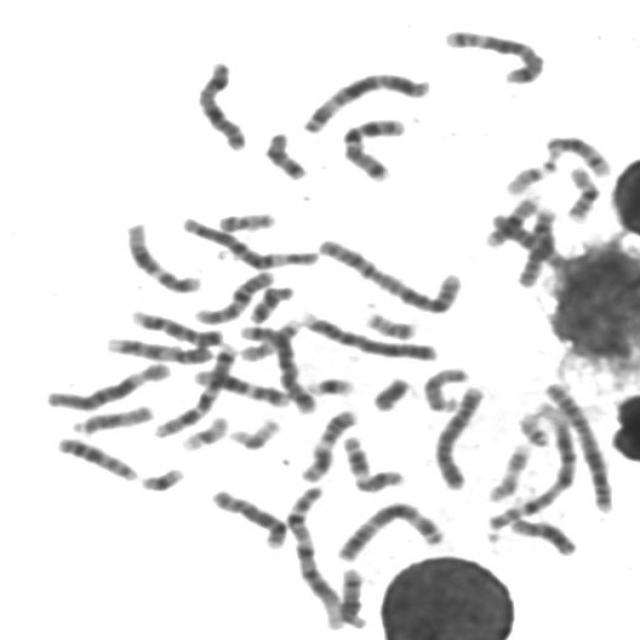A1: (478, 397, 580, 538), (282, 482, 351, 631)
A2: (312, 232, 466, 315), (537, 376, 618, 514)
A3: (296, 66, 434, 136), (330, 496, 447, 564)
B4: (295, 306, 440, 363), (428, 381, 487, 492)
B5: (234, 319, 320, 415), (439, 24, 548, 85)
C10: (189, 265, 278, 326), (512, 201, 561, 289)
C11: (296, 404, 361, 484), (337, 430, 408, 494)
C12: (120, 217, 205, 295), (188, 363, 294, 409)
C6: (176, 211, 322, 269), (40, 357, 175, 412)
C7: (149, 338, 241, 439), (336, 112, 410, 182)
C8: (205, 483, 290, 551), (491, 211, 574, 278)
C9: (126, 304, 226, 348), (100, 332, 216, 365)
D13: (51, 431, 141, 483), (488, 515, 577, 561)
D14: (540, 130, 614, 178), (332, 562, 370, 630)
D15: (66, 398, 156, 436), (417, 363, 471, 413)
E16: (480, 188, 544, 250), (560, 160, 602, 224)
E17: (482, 436, 536, 503), (234, 313, 305, 363)
E18: (258, 126, 310, 181), (244, 280, 297, 325)
F19: (223, 412, 284, 452), (174, 410, 232, 452)
F20: (360, 306, 419, 341), (212, 206, 279, 234)
G21: (134, 462, 187, 493), (300, 372, 358, 398)
G22: (501, 155, 560, 196), (513, 406, 554, 448)
X: (190, 56, 251, 152)
Y: (366, 372, 413, 413)
